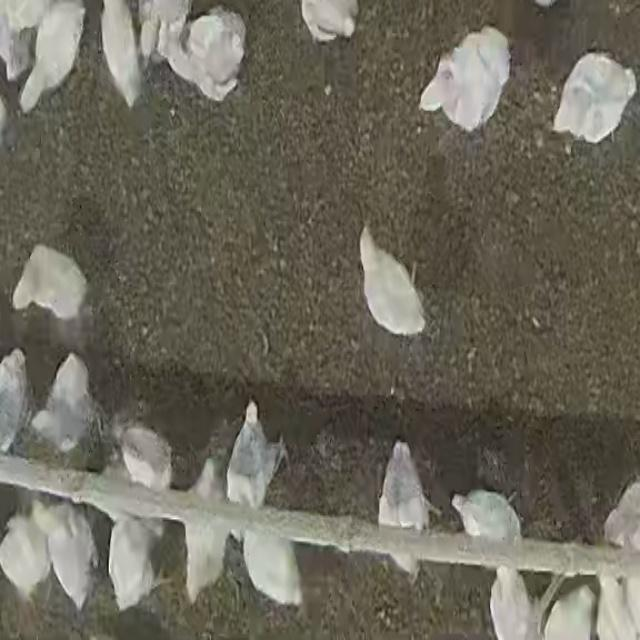chicken: (416, 25, 502, 131), (377, 439, 439, 580), (357, 225, 428, 338), (551, 51, 637, 143), (30, 353, 100, 458), (19, 4, 85, 112), (162, 16, 248, 93), (225, 400, 285, 510), (10, 242, 89, 325), (185, 463, 228, 600), (44, 504, 98, 612), (108, 516, 160, 614), (242, 527, 303, 609), (99, 0, 143, 107), (0, 509, 49, 603), (452, 488, 522, 548), (118, 423, 171, 491), (489, 565, 536, 637), (0, 348, 32, 451), (300, 0, 358, 42)
